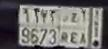3: (48, 9, 59, 45)
6: (30, 6, 41, 44)
7: (40, 9, 47, 44)
9: (21, 7, 30, 45)
A: (78, 10, 89, 45)
E: (69, 10, 80, 45)
